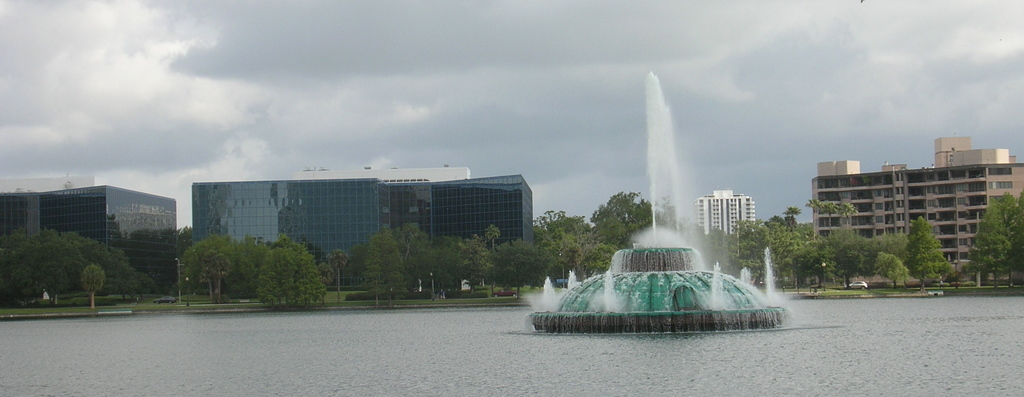Tree: (360, 190, 668, 307), (685, 199, 901, 291), (0, 233, 161, 297), (119, 224, 206, 281), (179, 238, 269, 293), (964, 189, 1009, 288), (904, 218, 951, 286), (249, 243, 296, 309), (993, 188, 1022, 288), (293, 252, 328, 309), (1011, 192, 1023, 293)
